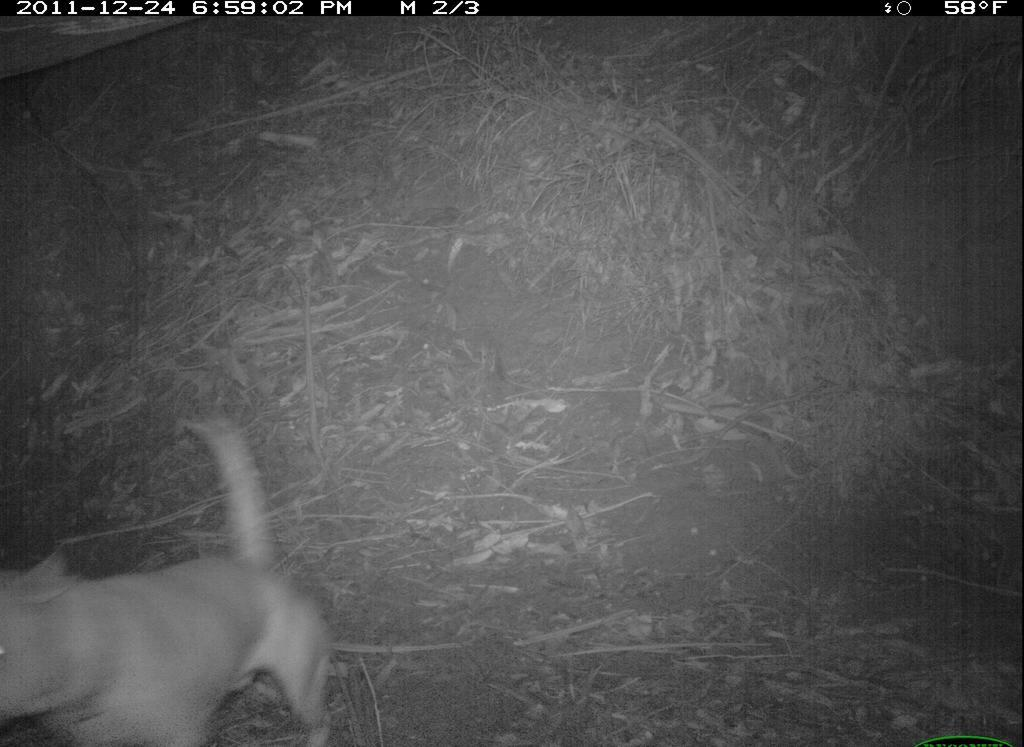dog: (3, 405, 351, 747)
